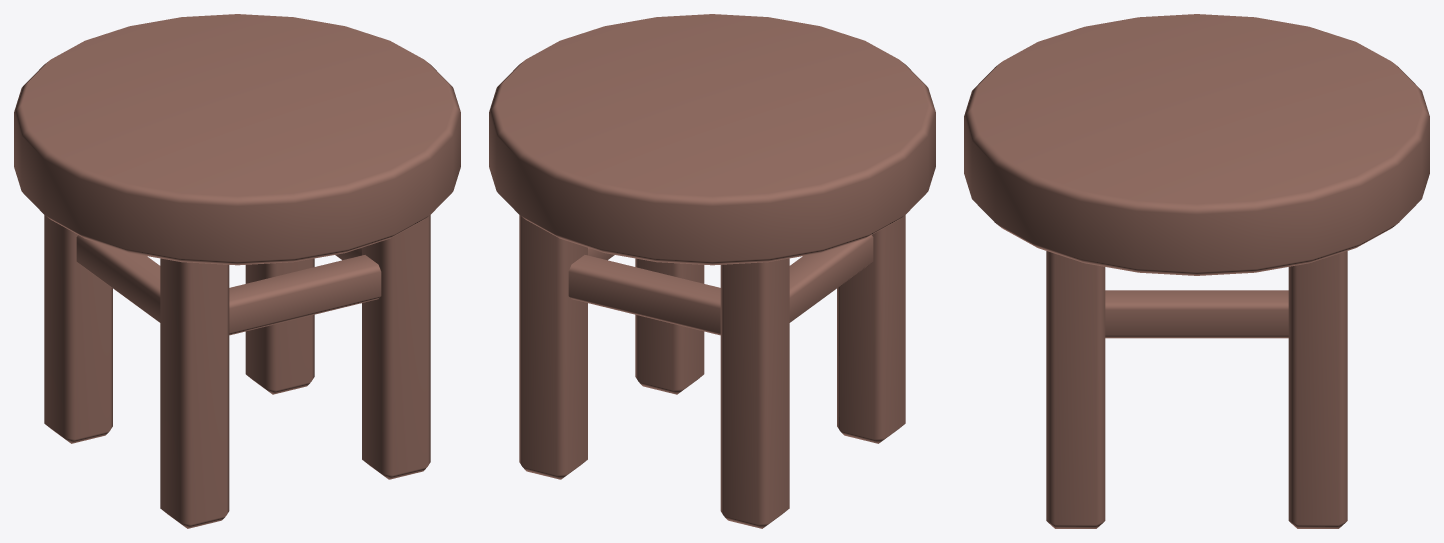
Rendered from Farm_13_Chair_1.glb.
3 views of the same model, side by side, from view 1: azimuth 30°, elevation 25°; view 2: azimuth 150°, elevation 25°; view 3: azimuth 270°, elevation 25° (orthographic). The views are drawn at different scales.
Parts seen in each view (by area): view 1: Farm_13_Chair_1; view 2: Farm_13_Chair_1; view 3: Farm_13_Chair_1.
Boxes of the visible parts, box(x1,y1,x2,y2) form: Farm_13_Chair_1: box(14, 14, 460, 528); Farm_13_Chair_1: box(489, 14, 935, 528); Farm_13_Chair_1: box(964, 14, 1429, 528).
Bounding box in the file's own units: 0.4996 × 0.426 × 0.4996.
1 material, 1 textured.
